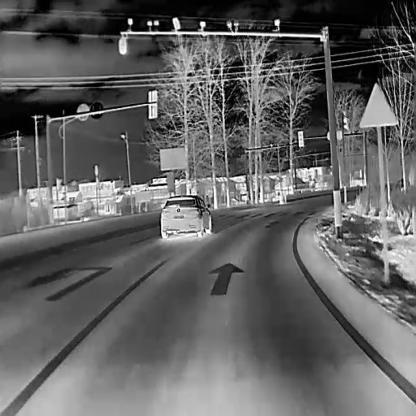car: (160, 193, 211, 238)
